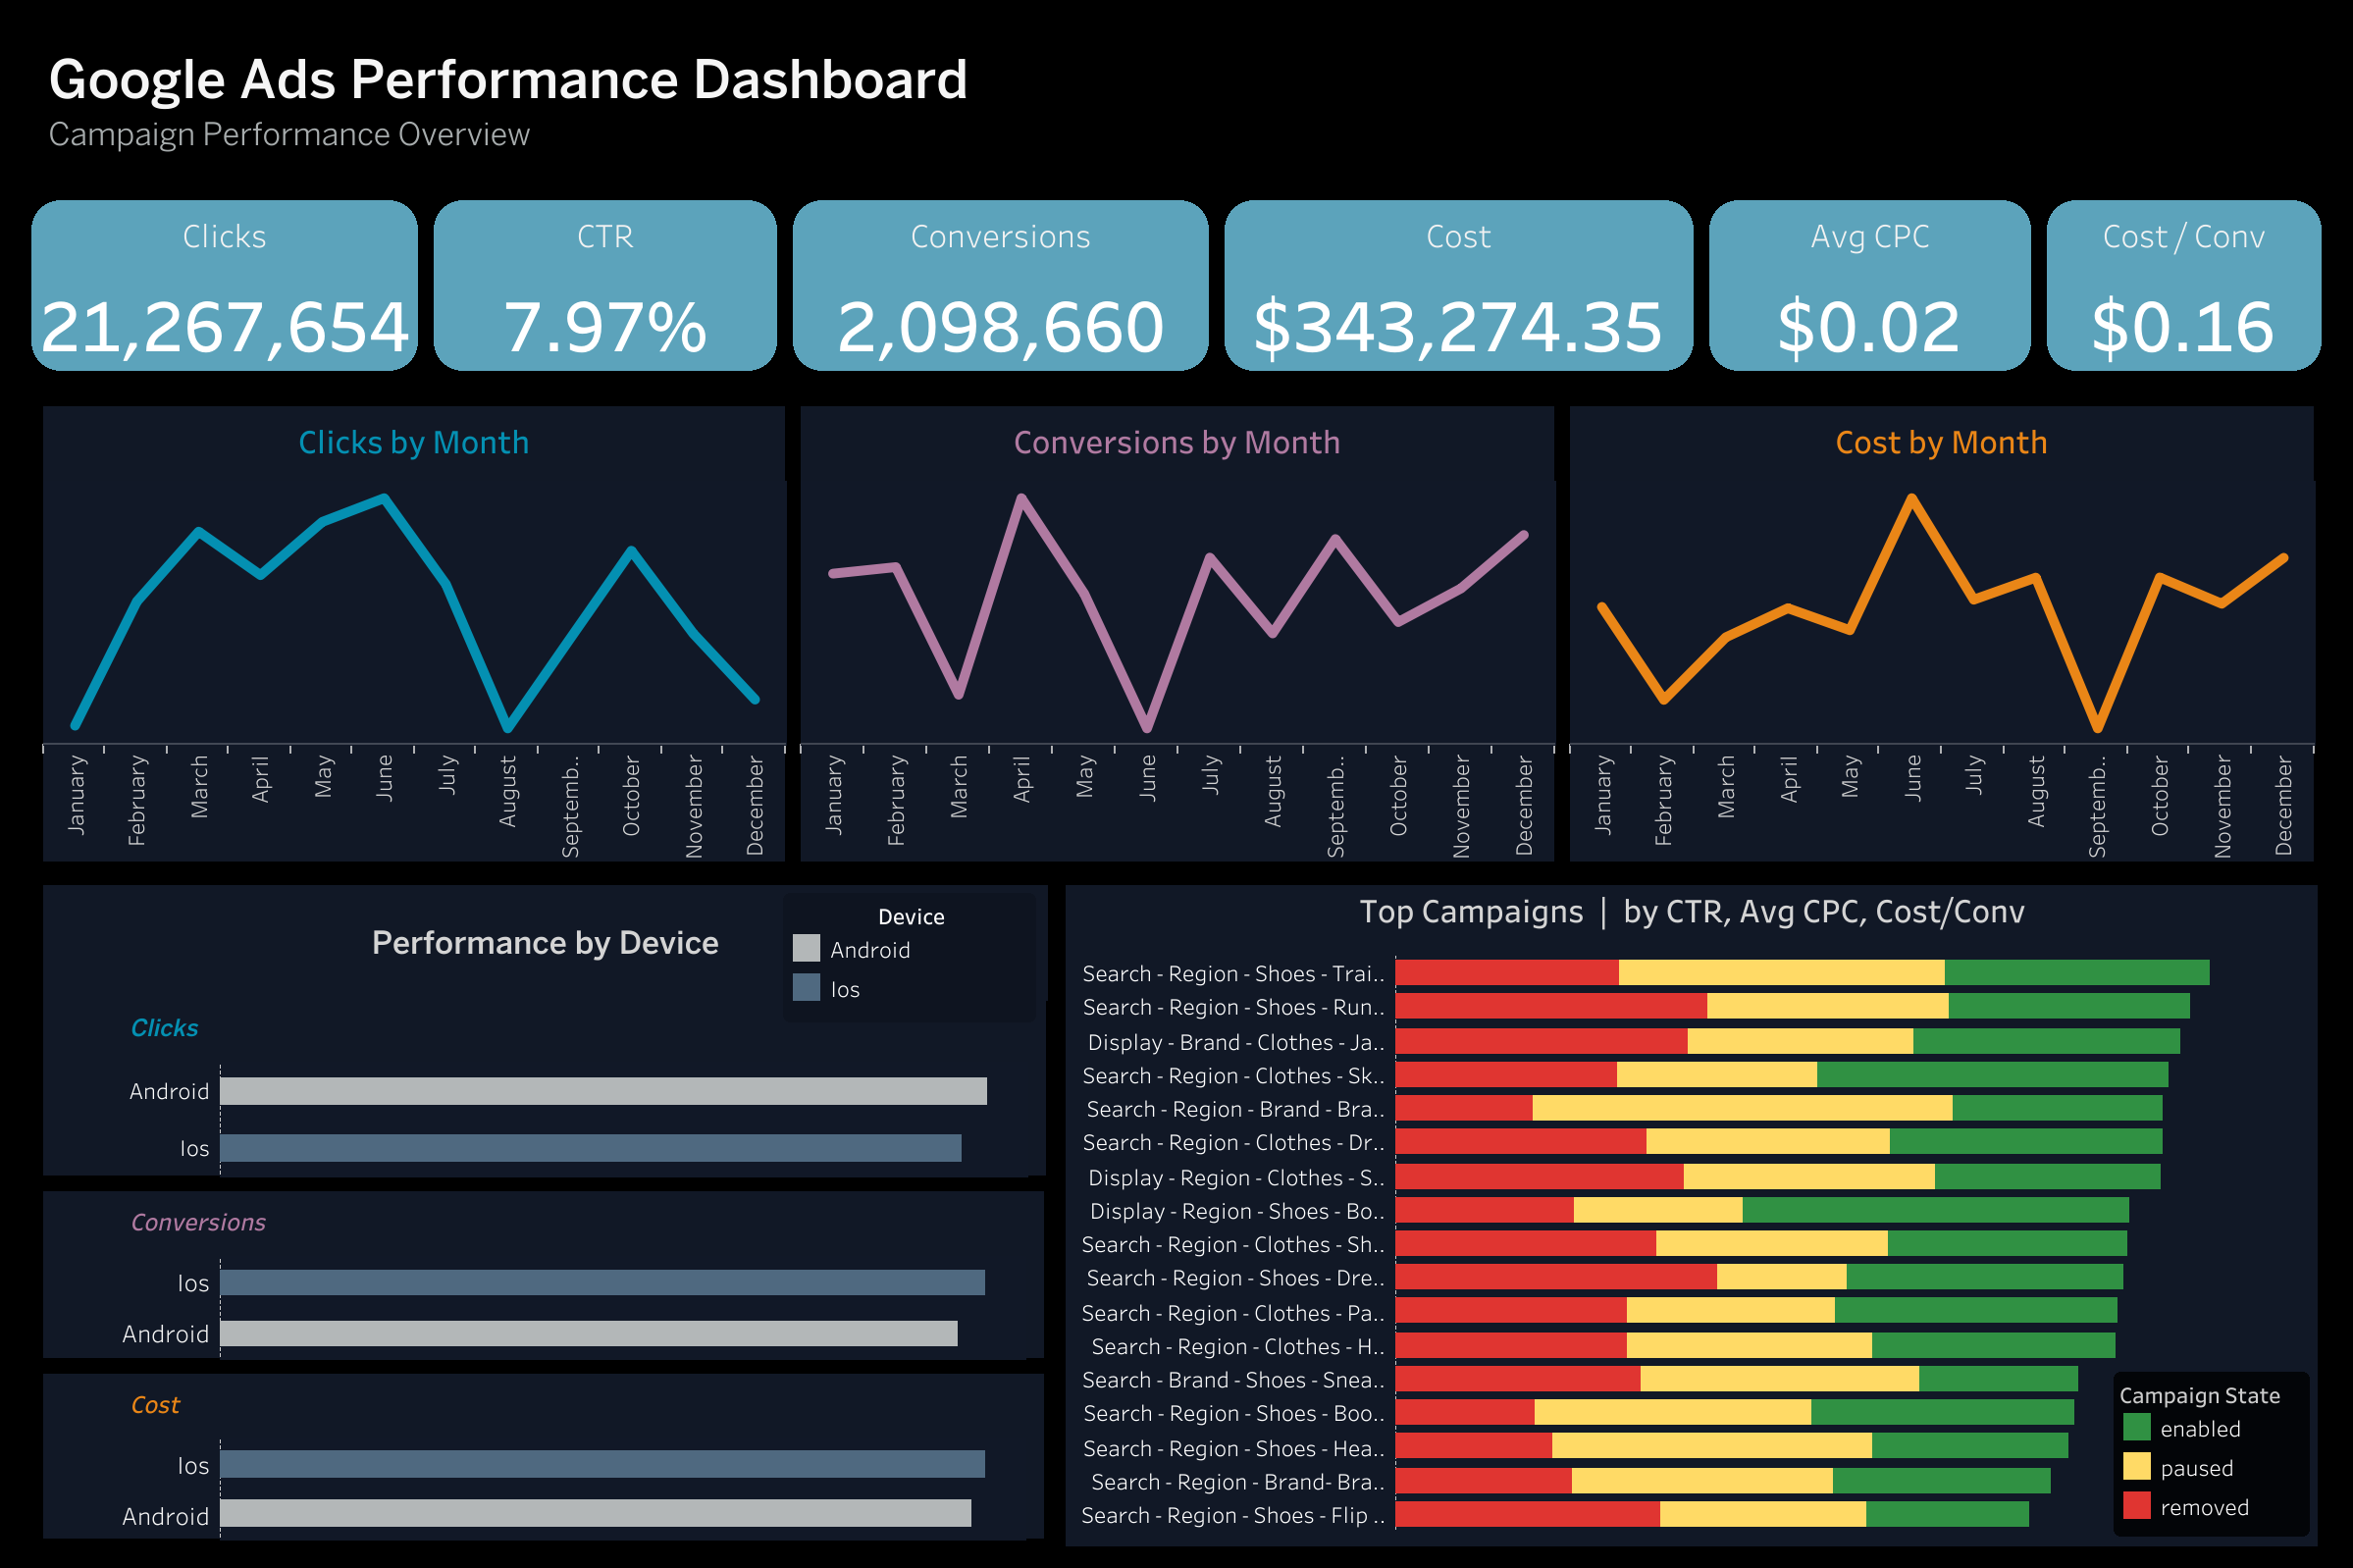

The dashboard page shown, as its layout file describes it:
{"tool":"tableau","page":{"name":"Google Ads Dashboard","canvas":[1200,800],"ordinal":0},"visuals":[{"type":"text","box":[8,8,1183,85.9]},{"type":"worksheet","title":"KPI Clicks","mark":"Text","box":[12,97.9,205,94]},{"type":"worksheet","title":"KPI CTR","mark":"Text","box":[217,97.9,183,94]},{"type":"worksheet","title":"KPI Conv","mark":"Text","box":[400,97.9,220,94]},{"type":"worksheet","title":"KPI Cost","mark":"Text","box":[620,97.9,247,94]},{"type":"worksheet","title":"KPI Avg CPC","mark":"Text","box":[867,97.9,172,94]},{"type":"worksheet","title":"KPI Cost Conv","mark":"Text","box":[1039,97.9,148,94]},{"type":"blank","box":[12,191.9,1175,10]},{"type":"worksheet","title":"Clicks by Month","mark":"Line","rows":["Clicks"],"cols":["Month"],"box":[12,202,392,241]},{"type":"worksheet","title":"Conversions by Month","mark":"Line","rows":["Conversions"],"cols":["Month"],"box":[404,202,392,241]},{"type":"worksheet","title":"Cost by Month","mark":"Line","rows":["Cost"],"cols":["Month"],"box":[796,202,391,241]},{"type":"text","box":[8,447,530.4,63]},{"type":"text","box":[543.4,447,647.6,28]},{"type":"legend","title":"Device Clicks","param":"[federated.0o59p1t0olm0xm18jlhb21frt5bh].[none:Device:nk]","box":[398.2,458.7,127.6,61.9]},{"type":"worksheet","title":"Top Campaigns","mark":"Bar","rows":["Campaign"],"cols":["Clicks"],"box":[543.4,475,647.6,317]},{"type":"worksheet","title":"Device Clicks","mark":"Bar","rows":["Device"],"cols":["Clicks"],"box":[8,510,528,94]},{"type":"worksheet","title":"Device Conversions","mark":"Bar","rows":["Device"],"cols":["Conversions"],"box":[8,604,528,94]},{"type":"legend","title":"Top Campaigns","param":"[federated.0o59p1t0olm0xm18jlhb21frt5bh].[none:Campaign State:nk]","box":[1087.6,692.6,100.4,93.7]},{"type":"worksheet","title":"Device Cost","mark":"Bar","rows":["Device"],"cols":["Cost"],"box":[8,698,528,94]}]}

Visuals, with their boxes in screenshot pixels (x1, y1, x2, y2), scaled from the page's 1200x800 canvas onto the 2353x1568 screenshot:
text: <region>16, 16, 2335, 184</region>
"KPI Clicks" worksheet (Text marks): <region>24, 192, 426, 376</region>
"KPI CTR" worksheet (Text marks): <region>426, 192, 784, 376</region>
"KPI Conv" worksheet (Text marks): <region>784, 192, 1216, 376</region>
"KPI Cost" worksheet (Text marks): <region>1216, 192, 1700, 376</region>
"KPI Avg CPC" worksheet (Text marks): <region>1700, 192, 2037, 376</region>
"KPI Cost Conv" worksheet (Text marks): <region>2037, 192, 2327, 376</region>
blank: <region>24, 376, 2327, 395</region>
"Clicks by Month" worksheet (Line marks): <region>24, 395, 792, 868</region>
"Conversions by Month" worksheet (Line marks): <region>792, 395, 1561, 868</region>
"Cost by Month" worksheet (Line marks): <region>1561, 395, 2327, 868</region>
text: <region>16, 876, 1056, 1000</region>
text: <region>1066, 876, 2335, 931</region>
"Device Clicks" legend: <region>781, 899, 1031, 1020</region>
"Top Campaigns" worksheet (Bar marks): <region>1066, 931, 2335, 1552</region>
"Device Clicks" worksheet (Bar marks): <region>16, 1000, 1051, 1183</region>
"Device Conversions" worksheet (Bar marks): <region>16, 1183, 1051, 1368</region>
"Top Campaigns" legend: <region>2132, 1357, 2329, 1542</region>
"Device Cost" worksheet (Bar marks): <region>16, 1368, 1051, 1552</region>
